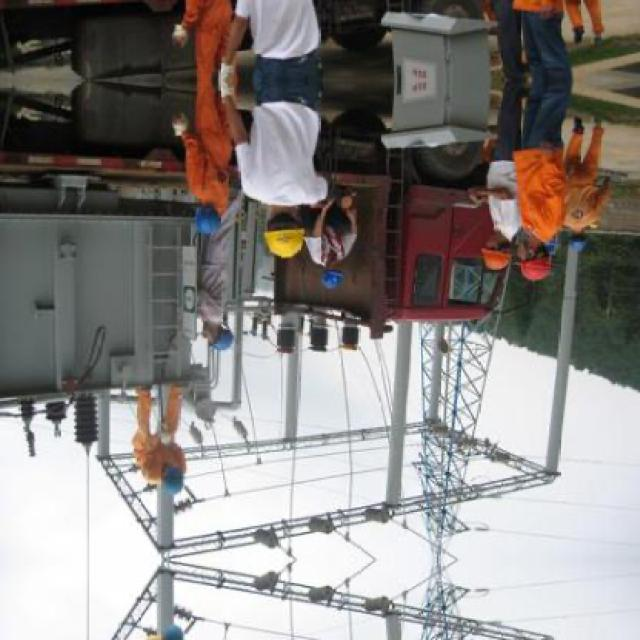con casco: (124, 442, 215, 514), (189, 289, 274, 348), (287, 240, 375, 290), (254, 212, 310, 264), (168, 196, 234, 236), (496, 238, 534, 292), (476, 235, 506, 265)
